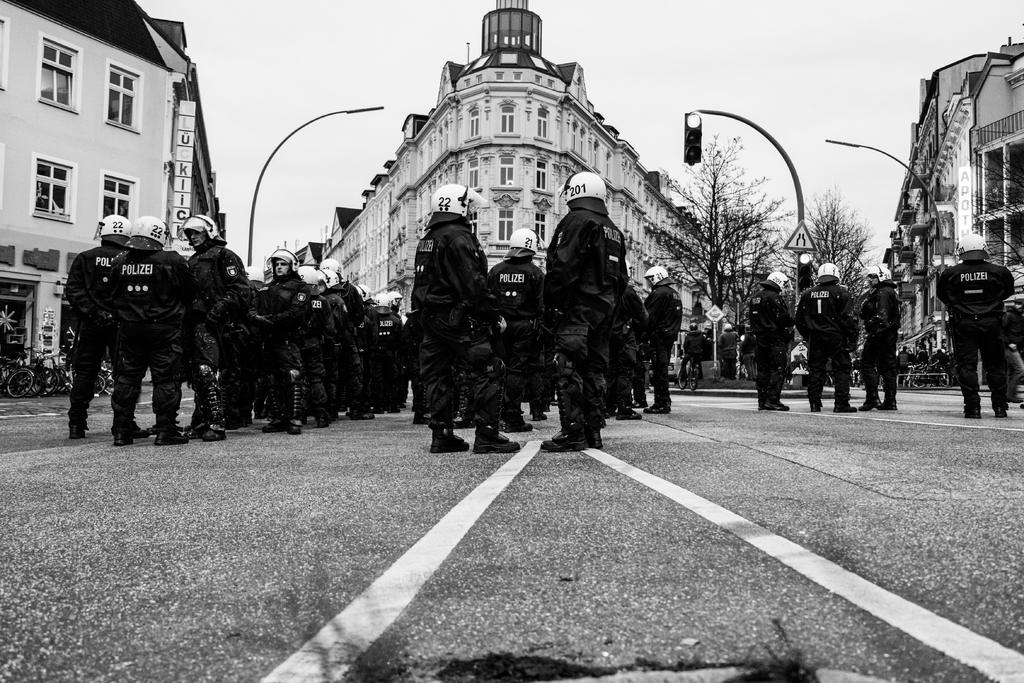Tree: (642, 130, 876, 333)
